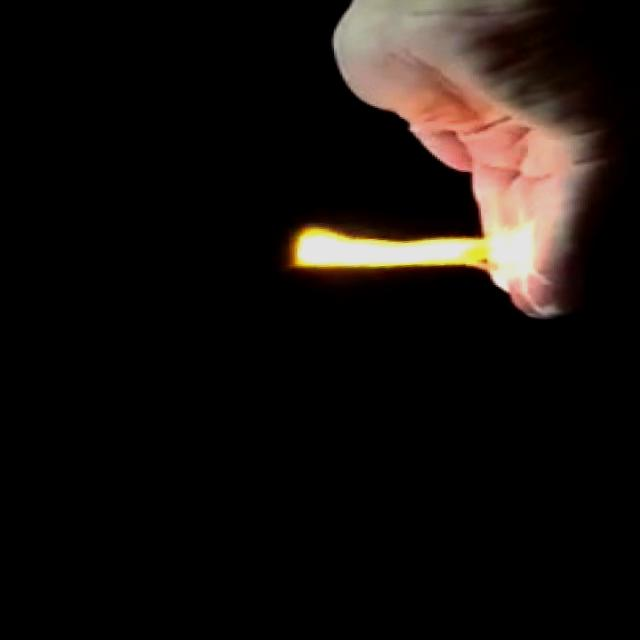Fire: (272, 208, 538, 306)
